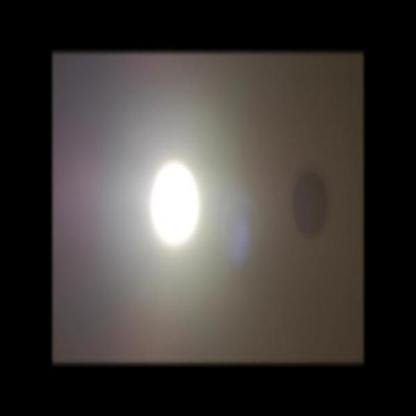light_off: (276, 138, 332, 254)
